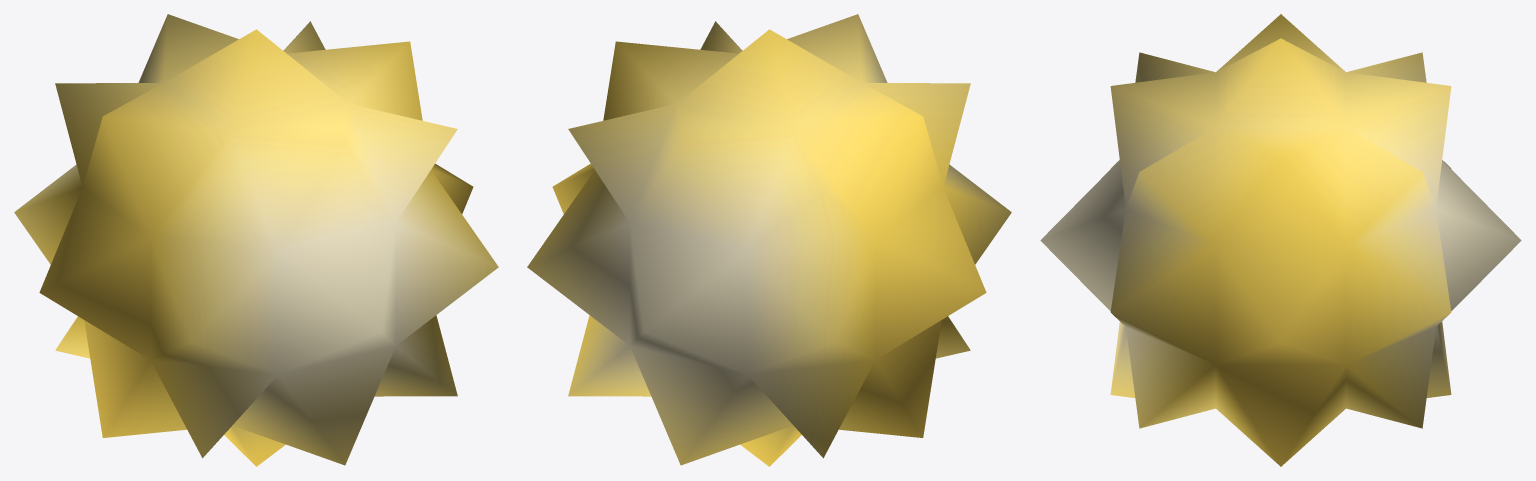
The model's file is Doll_OB_Candy_001.FBX.
3 renders of one model, left to right at view 1: azimuth 30°, elevation 25°; view 2: azimuth 150°, elevation 25°; view 3: azimuth 270°, elevation 25°, orthographic. The views are drawn at different scales.
Visible parts, largest first — view 1: Doll_OB_Candy_001; view 2: Doll_OB_Candy_001; view 3: Doll_OB_Candy_001.
Part boxes in pixels (x1,y1,x2,y2): Doll_OB_Candy_001: [14, 14, 498, 466]; Doll_OB_Candy_001: [527, 14, 1011, 466]; Doll_OB_Candy_001: [1040, 14, 1521, 466].
Bounding box in the file's own units: 3.01 × 2.9 × 3.01.
